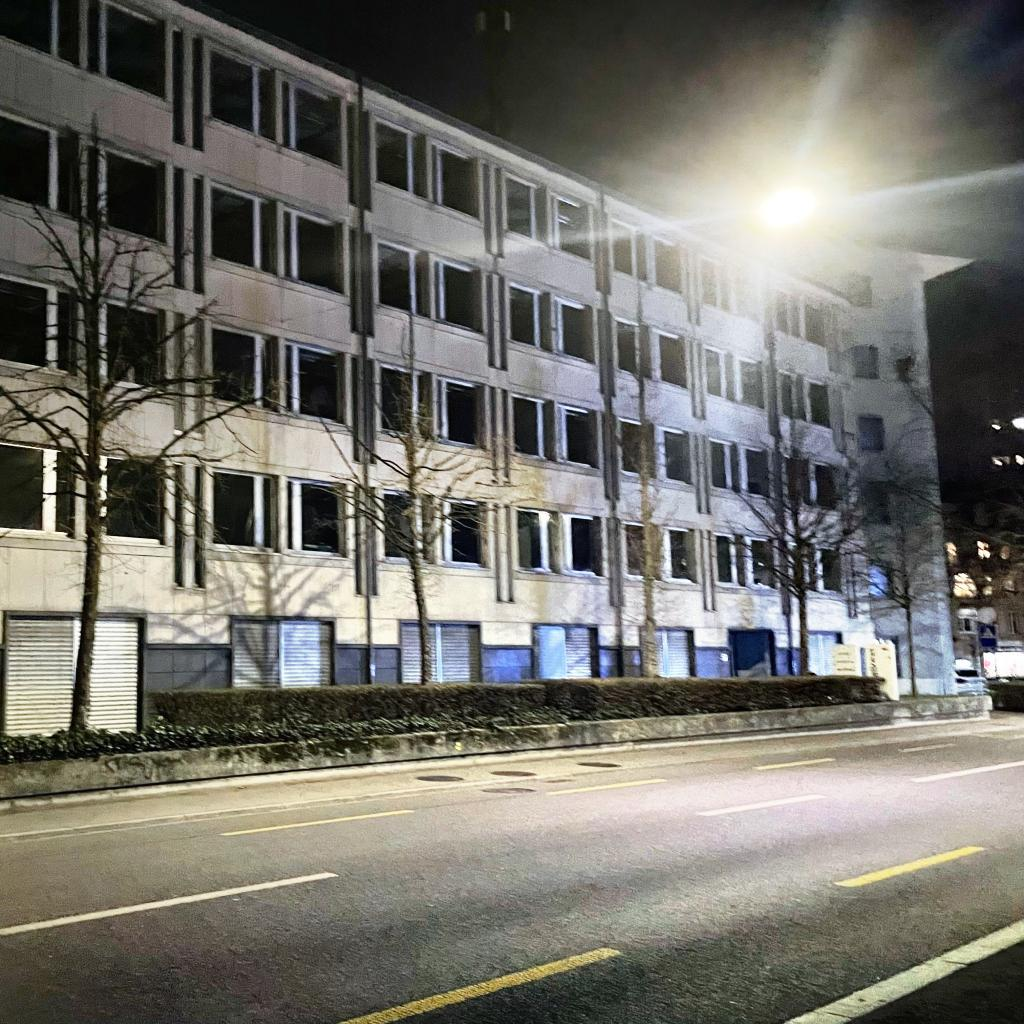facade: (0, 0, 880, 730), (764, 224, 977, 704), (0, 525, 79, 735), (808, 600, 908, 701)
fence: (0, 696, 993, 801)
street: (0, 711, 1024, 1024)
traffic-infrastructure: (764, 192, 803, 673)
window: (76, 135, 165, 247), (0, 271, 80, 379), (0, 441, 76, 541), (98, 295, 165, 395), (0, 108, 60, 215), (204, 319, 273, 412), (204, 466, 278, 552), (210, 180, 274, 277), (98, 0, 161, 97), (283, 203, 342, 297), (101, 456, 160, 546), (285, 339, 344, 426), (285, 476, 348, 557), (290, 80, 342, 169), (374, 489, 434, 565), (211, 46, 260, 137), (433, 254, 483, 335), (374, 359, 425, 438), (374, 235, 421, 317), (436, 375, 482, 450), (372, 115, 415, 195), (434, 144, 478, 221), (441, 497, 487, 570), (507, 391, 547, 462), (554, 293, 593, 365), (511, 507, 553, 573), (558, 403, 598, 469), (507, 280, 543, 352), (502, 169, 537, 243), (561, 513, 601, 576), (651, 328, 690, 389), (553, 192, 587, 259), (659, 425, 691, 484), (698, 255, 730, 313), (664, 526, 696, 583), (741, 445, 775, 498), (735, 353, 764, 412), (653, 234, 681, 294), (613, 315, 641, 375), (746, 535, 777, 589), (815, 462, 849, 511), (701, 343, 728, 403), (619, 520, 645, 582), (707, 437, 735, 493), (711, 531, 738, 587), (612, 219, 637, 278), (788, 542, 818, 591), (618, 417, 641, 479), (774, 289, 800, 338), (785, 456, 810, 506), (776, 368, 798, 422), (805, 379, 829, 427), (819, 545, 842, 593), (804, 300, 825, 347), (858, 417, 884, 452), (855, 345, 879, 380), (848, 276, 874, 306)
